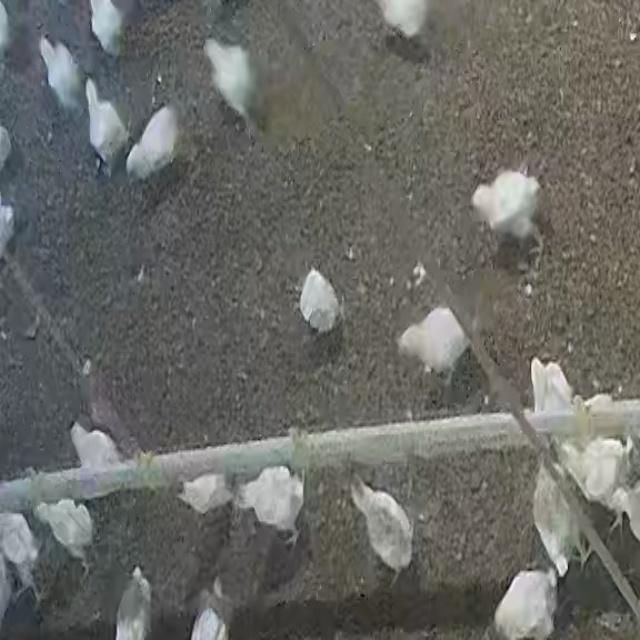chicken: (471, 168, 548, 261), (348, 472, 413, 581), (562, 434, 636, 520), (396, 302, 473, 381), (533, 469, 586, 576), (240, 464, 308, 540), (202, 36, 259, 124), (492, 566, 557, 640), (33, 496, 96, 570), (127, 101, 181, 180), (85, 83, 128, 169), (39, 36, 84, 113), (527, 356, 571, 430), (296, 263, 342, 331), (67, 421, 121, 474), (178, 472, 232, 516)
